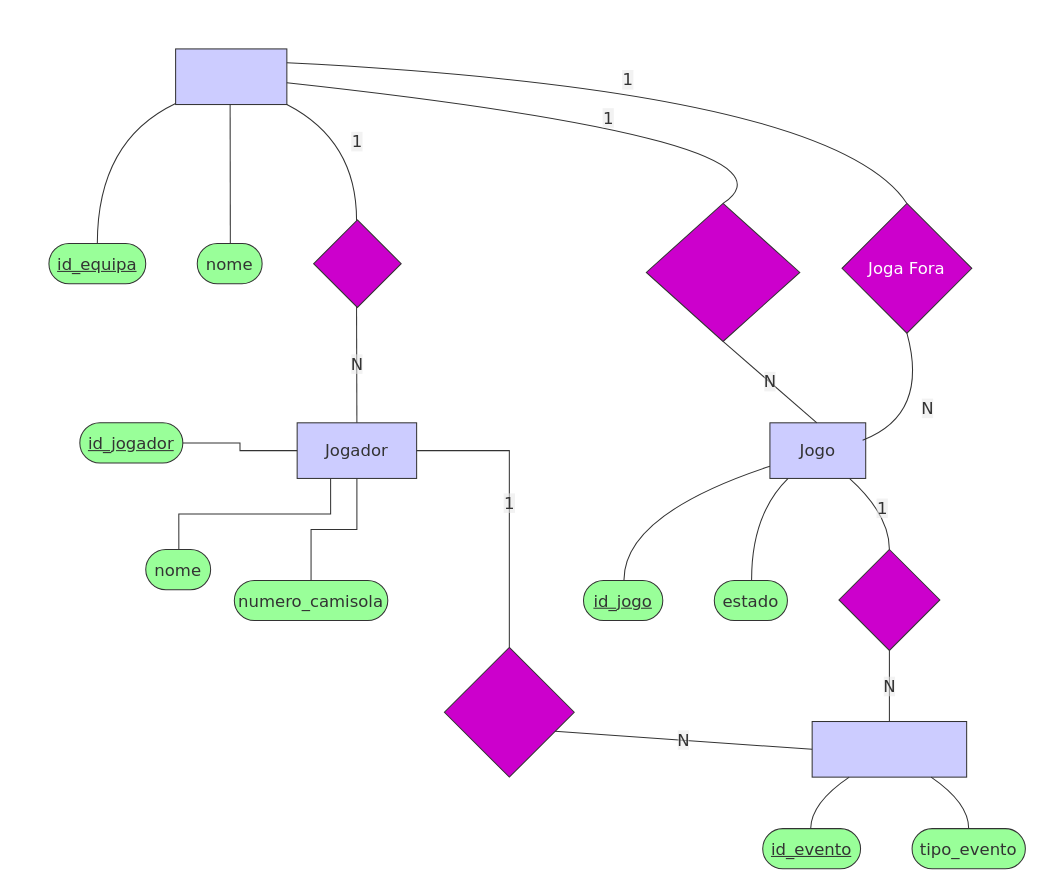
This 1043x887 diagram has some shape labels left out. The shapes that lost their labels are listed below. From the top down, each one's centre as x and y in pixels, then its label:
the point at 231,76: Equipa
the point at 357,263: Possui
the point at 722,271: Joga em Casa
the point at 889,599: Regista
the point at 508,711: Realiza
the point at 889,748: Evento_Jogo
